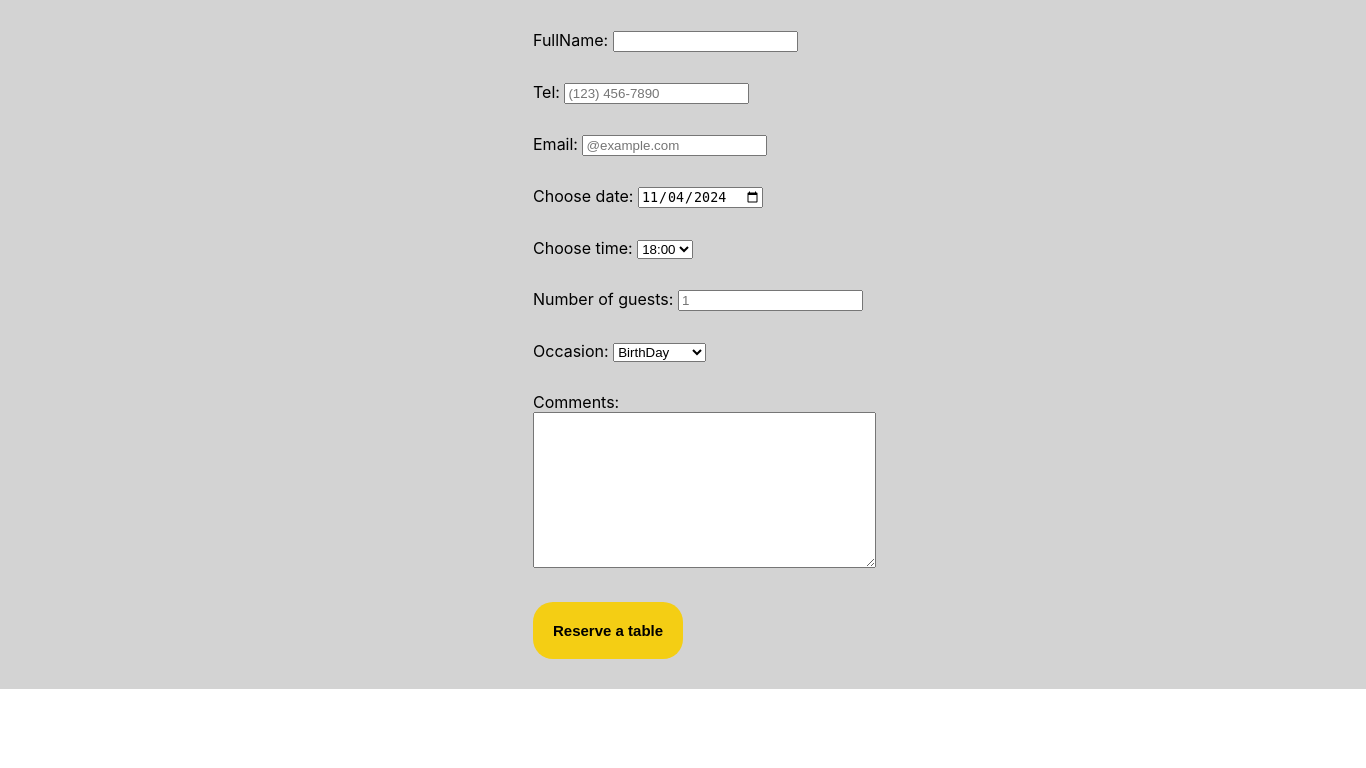
Test: show Full name must be at least 5 characters on the screen
This screenshot has width=1366, height=768.
In the field with alt text "full_name": (705, 42) [613,31,798,52], type "Ger"
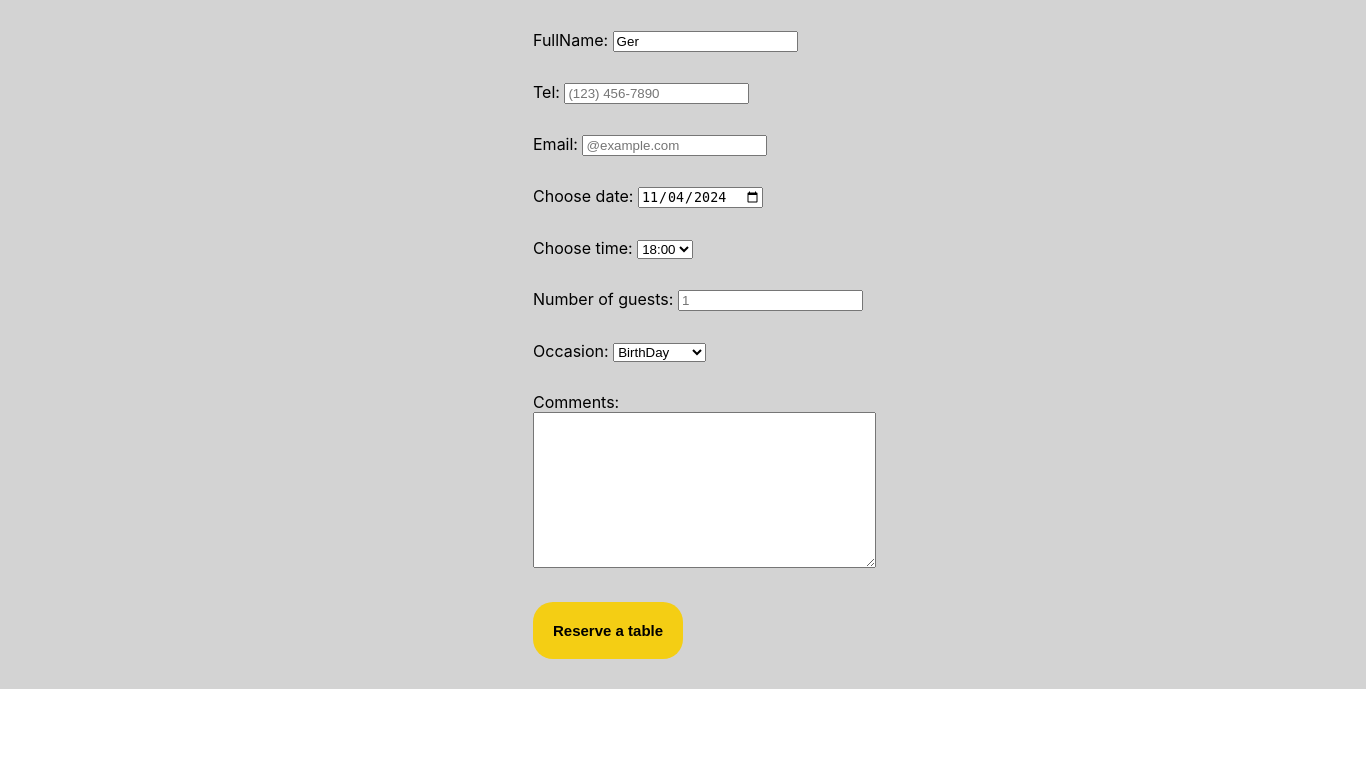
Click the button "Reserve a table": (608, 631) [533,602,683,659]
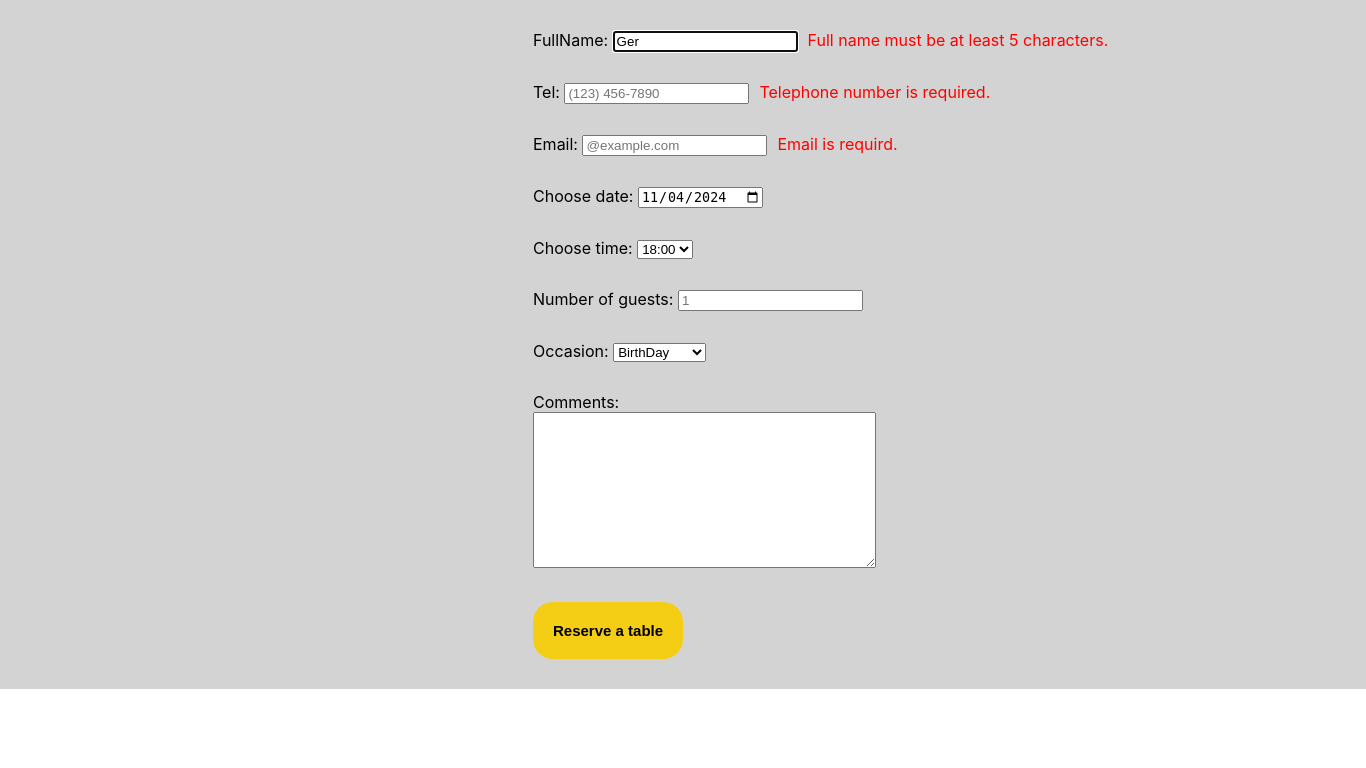
Check: the text "Full name must be at least 5 characters." is shown, box [808,30,1108,52]
